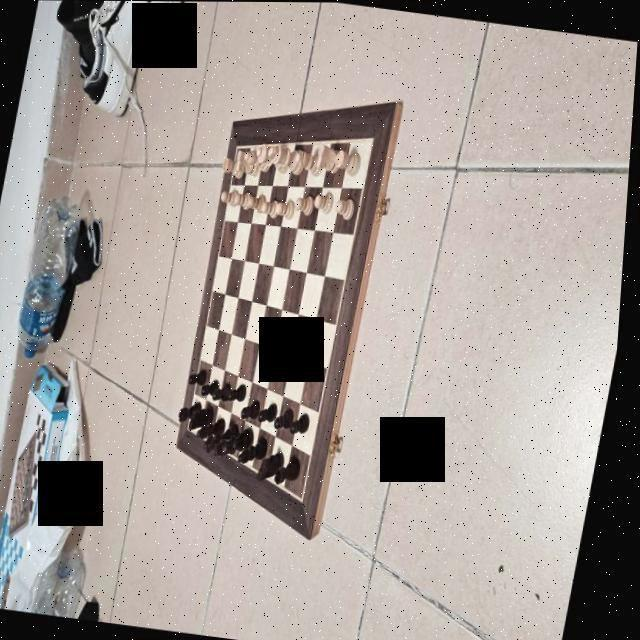chess-table-corners: (368, 132, 377, 146), (304, 490, 312, 505), (236, 142, 241, 152), (190, 423, 194, 432)
